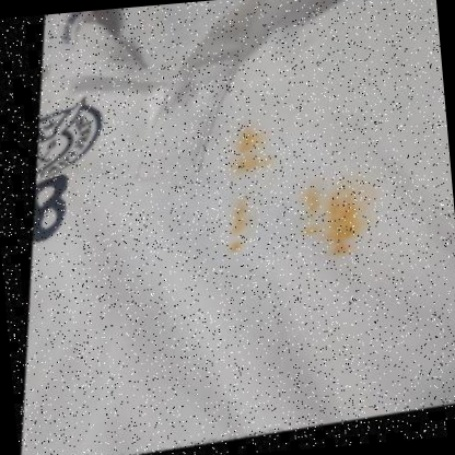kimchi: (292, 178, 376, 258), (229, 122, 274, 180), (216, 202, 260, 260)
